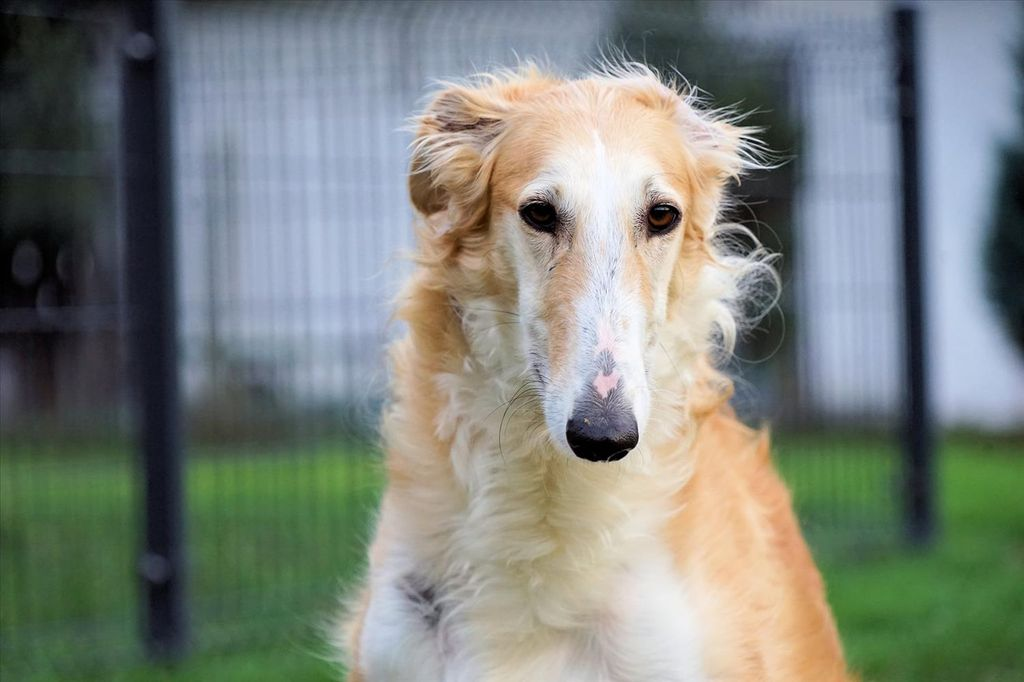borzoi: (358, 51, 828, 682)
